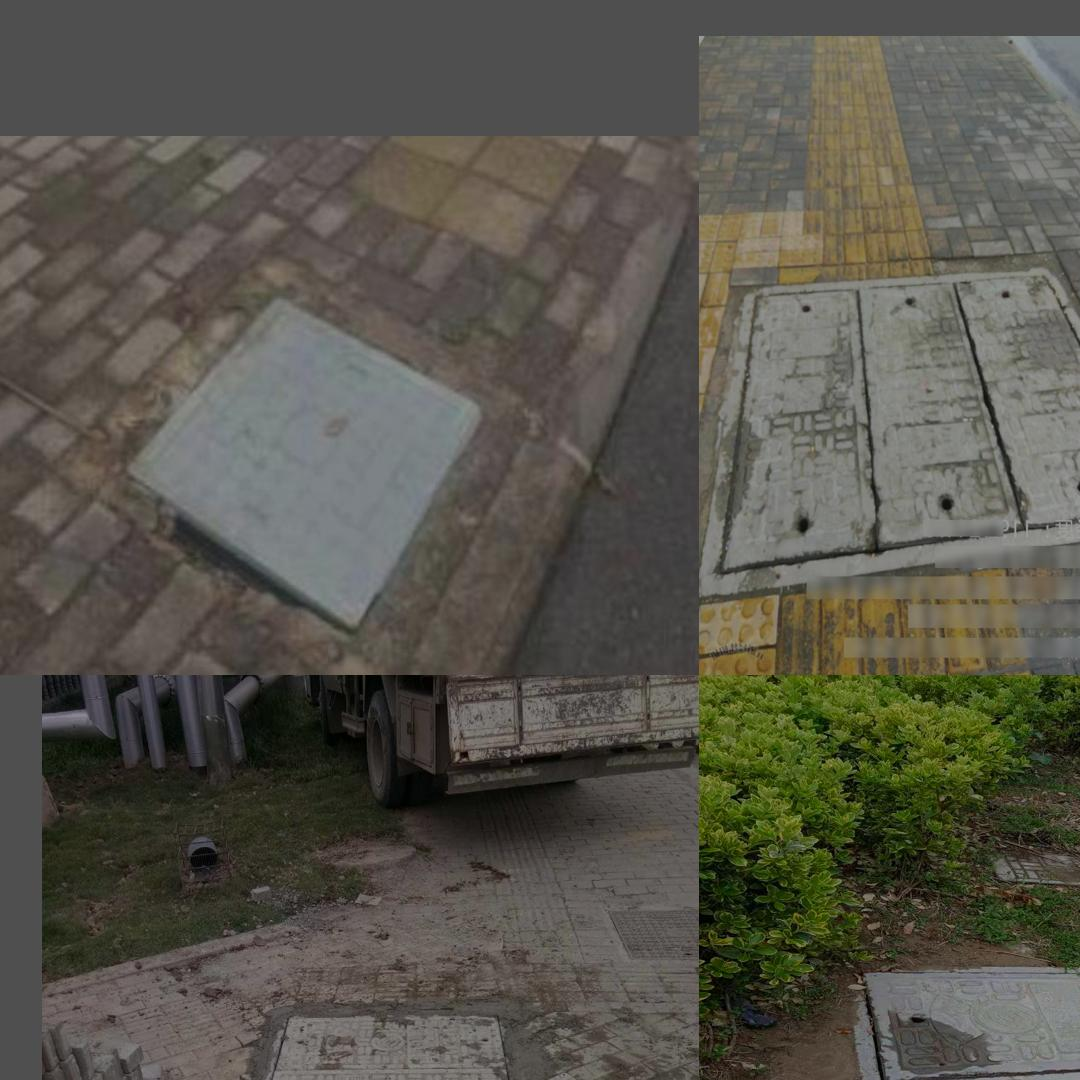good: (119, 283, 490, 629), (704, 256, 1080, 588), (848, 966, 1080, 1080), (216, 1007, 539, 1080)
